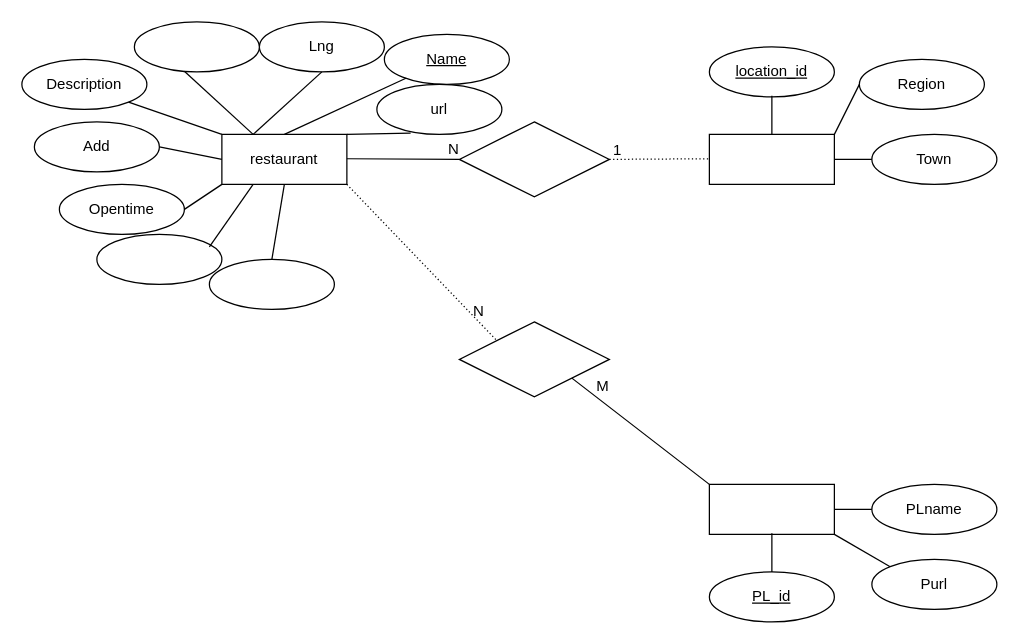
Image size: 1019x644. Some labels were removed from this diagram. Here are the shapes that lost their labels. From the top down, the box of each, then its label:
(133, 21, 259, 72): Lat
(458, 121, 609, 197): located on
(708, 133, 834, 184): location
(96, 233, 222, 284): Parkinginfo
(208, 258, 334, 309): Tel
(458, 321, 609, 397): parking
(708, 483, 834, 534): parking lot
